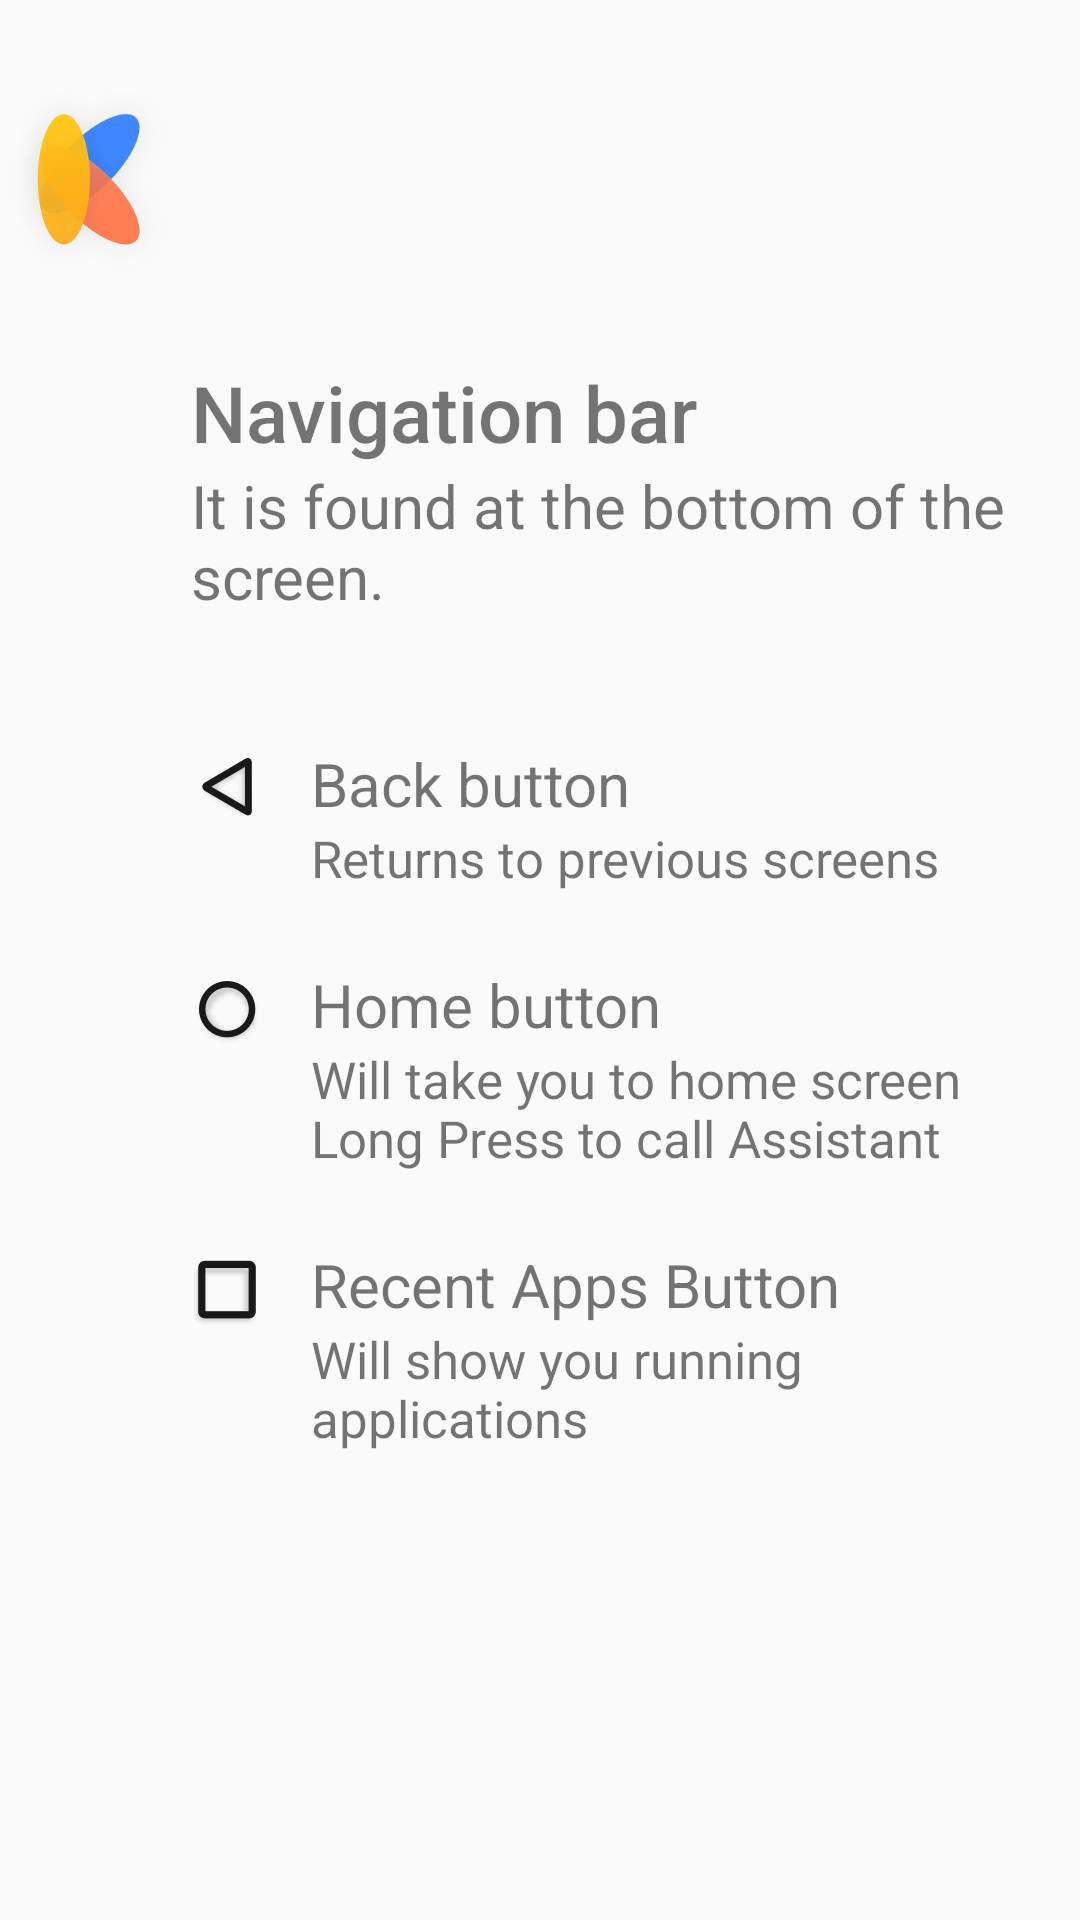

Icons on this 1080 x 1920 Android screen, each with its box as (x1, y1, x2, y2):
katsuna circle: (199, 981, 256, 1038)
katsuna square: (197, 1260, 256, 1321)
katsuna triangle: (202, 758, 252, 816)
